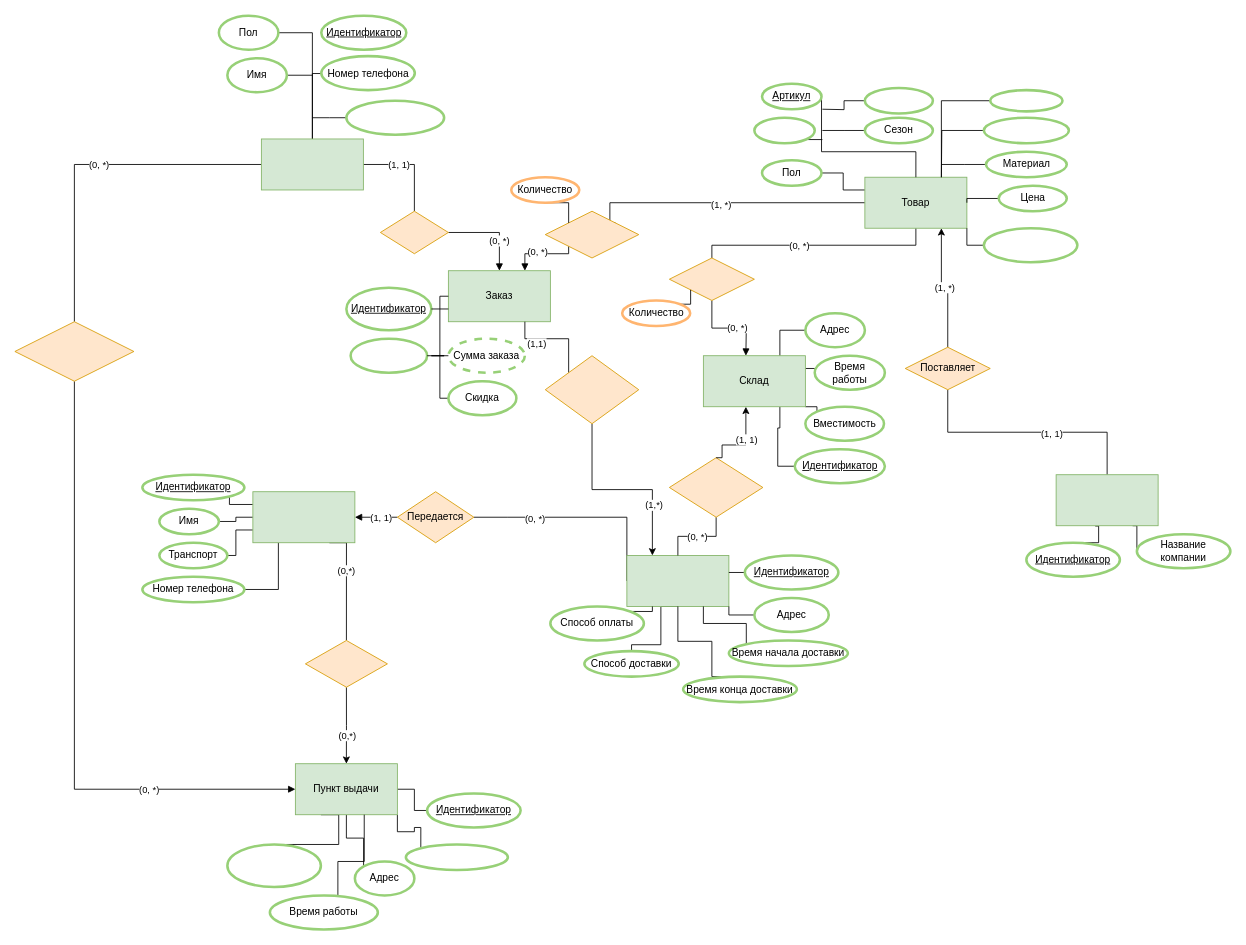
The diagram is 1246 pixels wide and 945 high, and some of its shapes have lost their labels. Here are the shapes that lost their labels. From the top down, the box of each, then its label:
(345, 99, 445, 136): Размер одежды
(863, 86, 934, 114): Размер
(989, 88, 1063, 112): Тип товара
(753, 116, 816, 144): Бренд
(982, 116, 1070, 144): Цвет
(261, 138, 363, 190): Клиент
(380, 210, 448, 254): Делает
(544, 210, 639, 258): Включается в
(982, 227, 1078, 263): Страна производства
(669, 257, 754, 300): Находится на
(14, 321, 134, 381): Может забрать заказ
(349, 337, 428, 374): ID покупателя
(544, 355, 639, 424): Рзбивается на
(669, 457, 763, 517): Формируется на
(1055, 474, 1158, 526): Поставщик
(252, 491, 355, 543): Курьер
(626, 555, 729, 606): Посылка
(305, 640, 387, 687): Доставляет в
(226, 843, 322, 888): Срок хранения
(404, 843, 509, 871): Способы оплаты
